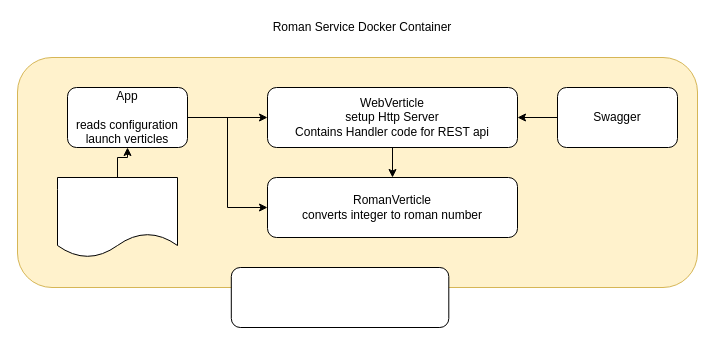
This 715x345 diagram has some shape labels left out. Here are the shapes that lost their labels. From the top down, the centre of each, then its label:
At [117,217]: "config.json or env config".
At [339,297]: "Docker env variables HTTP_PORT POD_NAME".
